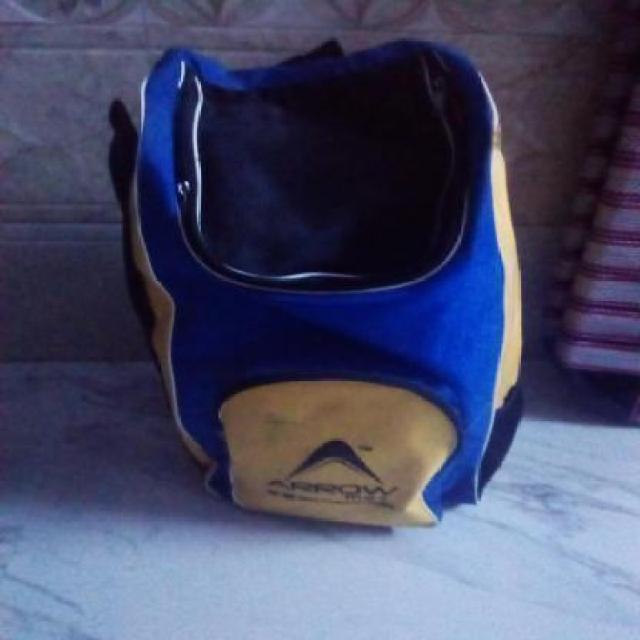backpack: (103, 36, 532, 538)
